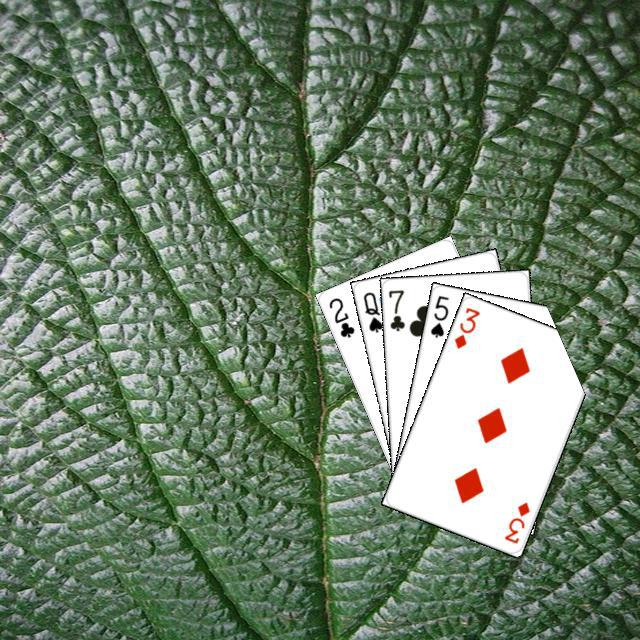2c: (324, 293, 356, 339)
3d: (449, 302, 482, 351), (499, 497, 531, 545)
5s: (425, 291, 450, 339)
7c: (383, 285, 406, 333)
Qs: (358, 287, 384, 334)
